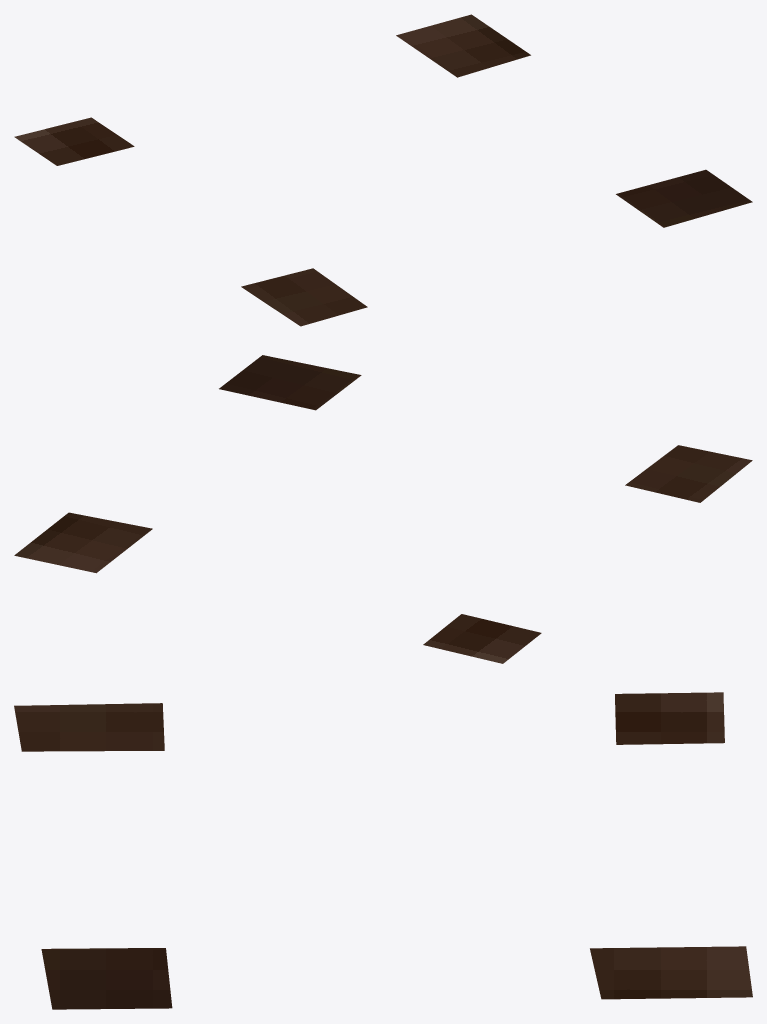
The model's file is spanish_npc_attach_fullnostonearchR_footprint.fbx.
3 views of the same model, one above another, from view 1: azimuth 30°, elevation 25°; view 2: azimuth 150°, elevation 25°; view 3: azimuth 270°, elevation 25° (orthographic). The views are drawn at different scales.
Visible parts, largest first — view 1: footprint; view 2: footprint; view 3: footprint.
Part boxes in pixels (left/top/right/bottom): footprint: left=14, top=14, right=752, bottom=326; footprint: left=14, top=355, right=752, bottom=663; footprint: left=14, top=692, right=752, bottom=1009.
Bounding box in the file's own units: 1086 × 0.000174 × 1069.
Materials: 1 (1 with a texture image).
